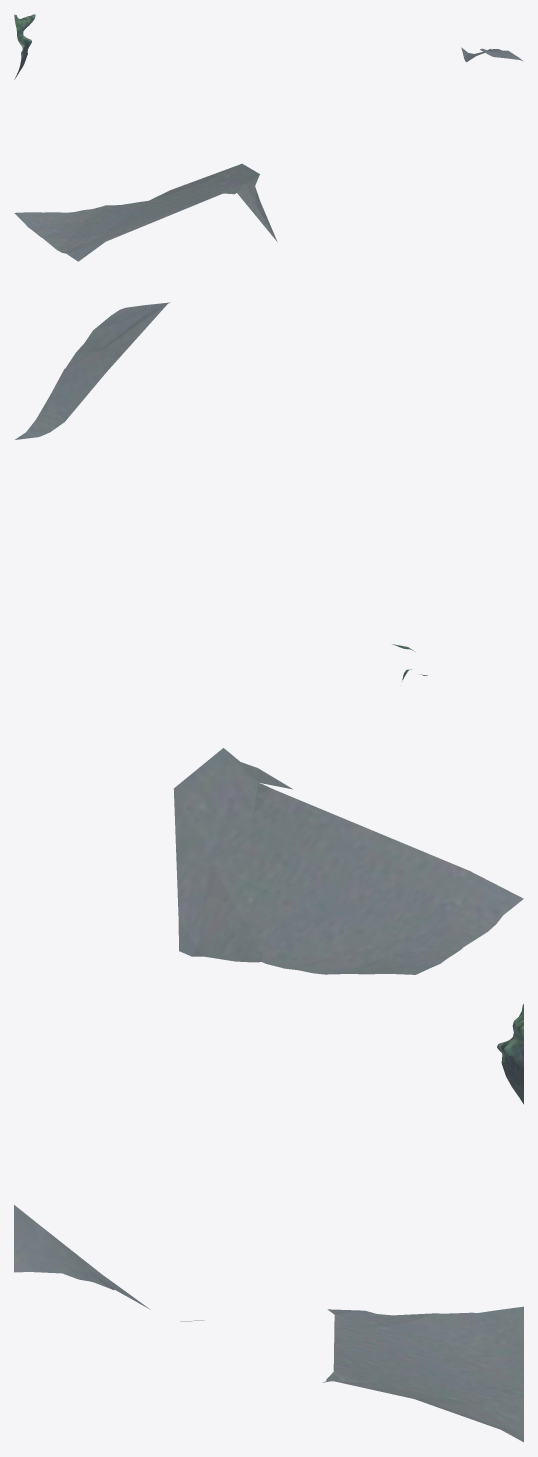
Rendered from Tile_+000_+006_L22_00000000.glb.
3 views of the same model, one above another, from view 1: azimuth 30°, elevation 25°; view 2: azimuth 150°, elevation 25°; view 3: azimuth 270°, elevation 25° (orthographic). The views are drawn at different scales.
Parts seen in each view (by area): view 1: rtc; view 2: rtc; view 3: rtc.
Boxes of the visible parts, x1=… form: rtc: x1=14, y1=14, x2=523, y2=261; rtc: x1=15, y1=302, x2=523, y2=974; rtc: x1=14, y1=1004, x2=523, y2=1442.
Bounding box in the file's own units: 30.39 × 19.81 × 25.59.
Materials: 1 (1 with a texture image).
